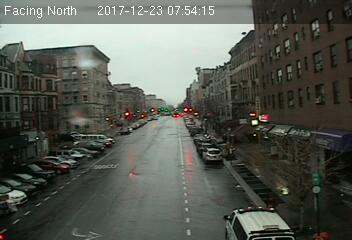car: (202, 147, 222, 162)
police: (216, 199, 292, 240)
